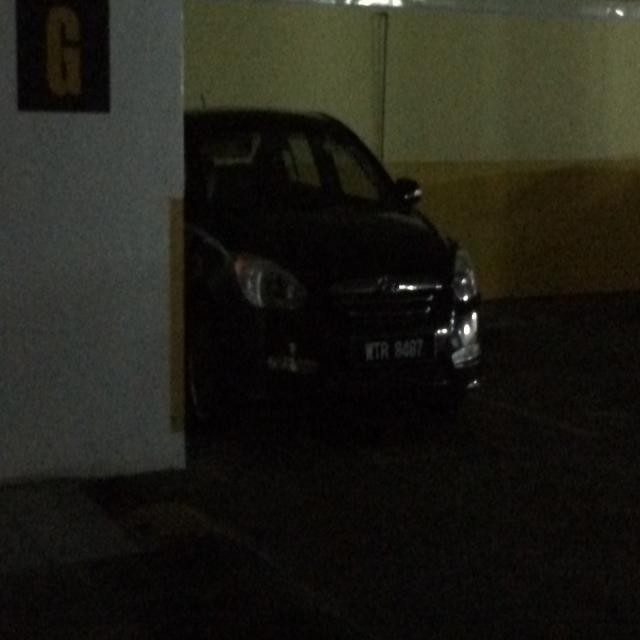Car: (165, 64, 536, 512)
